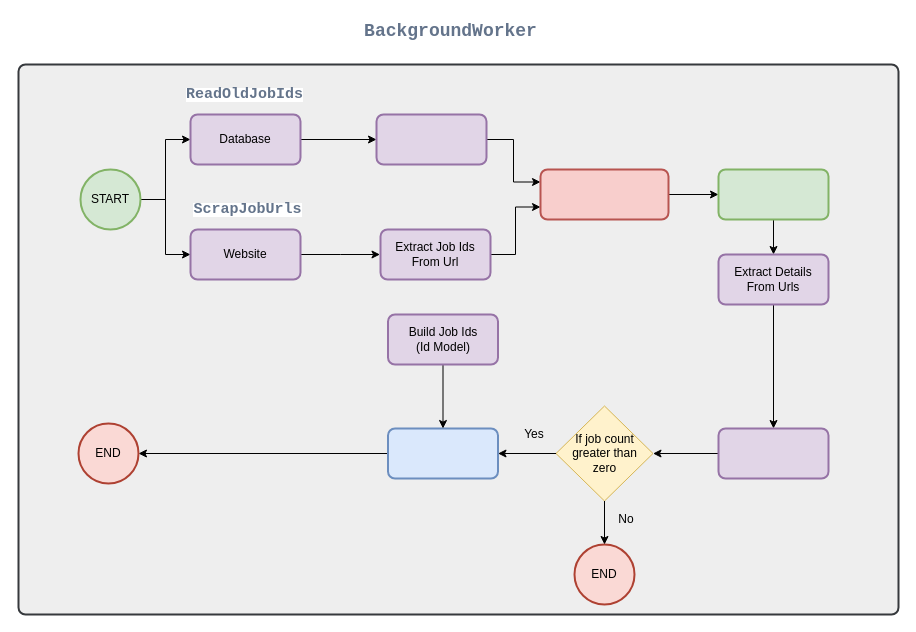
This 916x632 diagram has some shape labels left out. Each missing label, with the centre of its shape:
Build Job Details (Job Model): (773,453)
Linq Operation (Fillter Only New Ids From Site): (604,194)
Load Job Ids From Database: (431,139)
Rebuild Urls For New Job Ids: (773,194)
Save Records To Database: (442,453)
